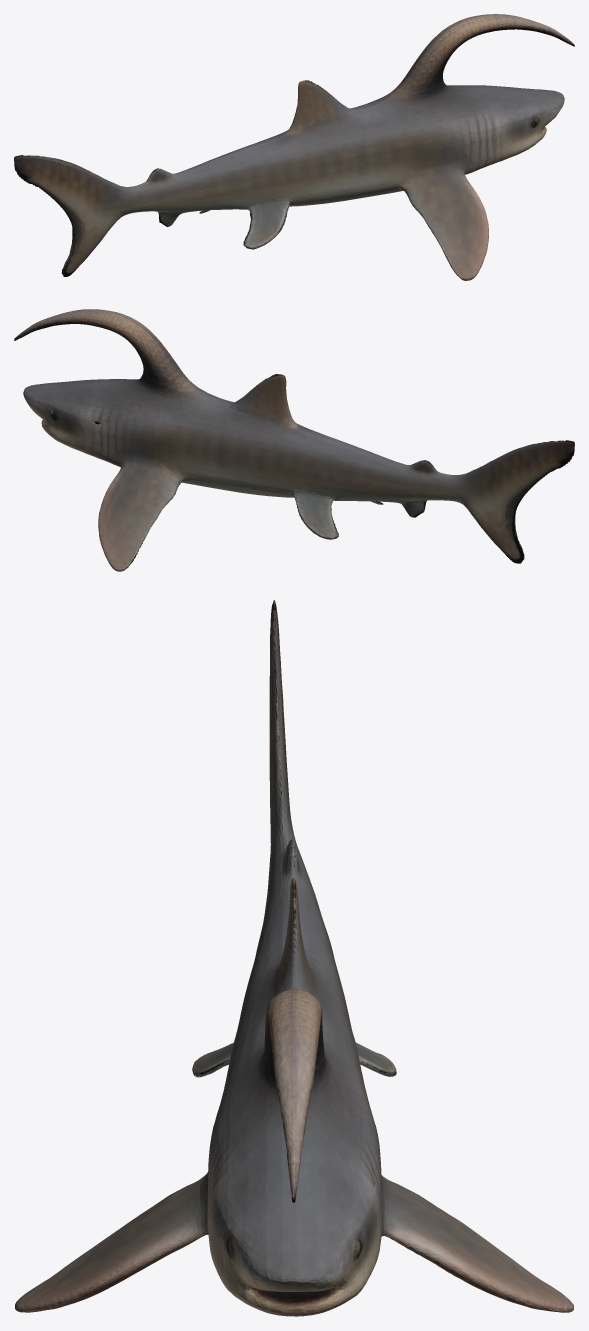
The picture shows the model from 3 angles, top to bottom: view 1: azimuth 30°, elevation 25°; view 2: azimuth 150°, elevation 25°; view 3: azimuth 270°, elevation 25°; orthographic projection. The views are drawn at different scales.
Visible parts, largest first — view 1: world; view 2: world; view 3: world.
Part boxes in pixels (<box>): world: <box>14,14,574,280</box>; world: <box>14,309,574,571</box>; world: <box>15,600,573,1316</box>.
Bounding box in the file's own units: 0.9876 × 0.3224 × 0.4303.
1 material, 1 textured.
